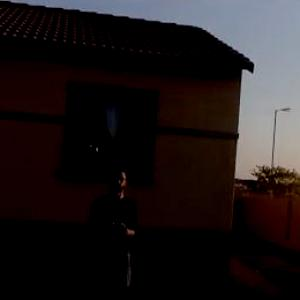follow: (82, 159, 149, 299)
